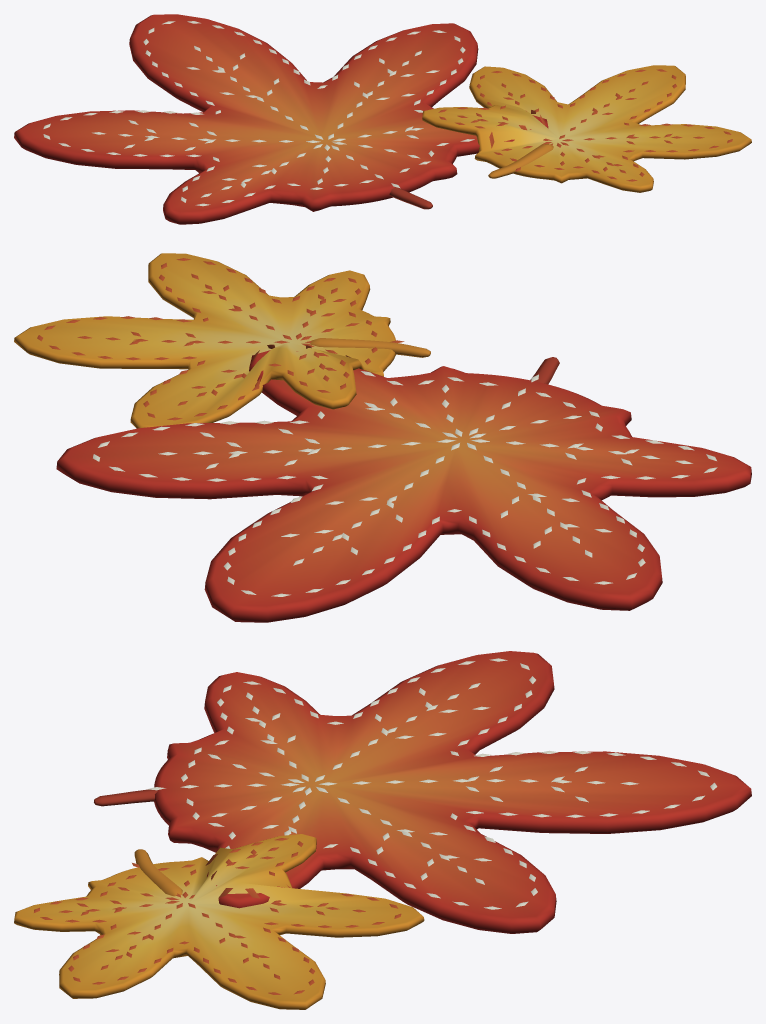
The model's file is furn-mapleRug.glb.
The picture shows the model from 3 angles, top to bottom: view 1: azimuth 30°, elevation 25°; view 2: azimuth 150°, elevation 25°; view 3: azimuth 270°, elevation 25°; orthographic projection. The views are drawn at different scales.
Visible parts, largest first — view 1: furn-mapleRug; view 2: furn-mapleRug; view 3: furn-mapleRug.
Part boxes in pixels (left/top/right/bottom): furn-mapleRug: left=14, top=14, right=751, bottom=224; furn-mapleRug: left=14, top=253, right=751, bottom=622; furn-mapleRug: left=14, top=651, right=751, bottom=1009.
Size of the model in its own units: 1.15 by 0.0397 by 1.03.
